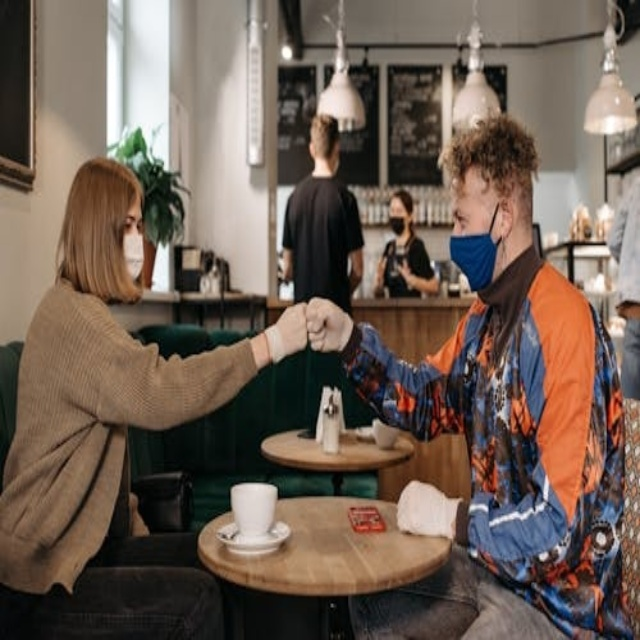Guantes: (396, 469, 465, 548), (260, 295, 308, 366), (306, 291, 356, 356)
Mascara: (449, 201, 502, 292), (122, 229, 145, 283), (389, 217, 406, 236)
Sin_gafas: (451, 186, 485, 228), (120, 203, 145, 230)
